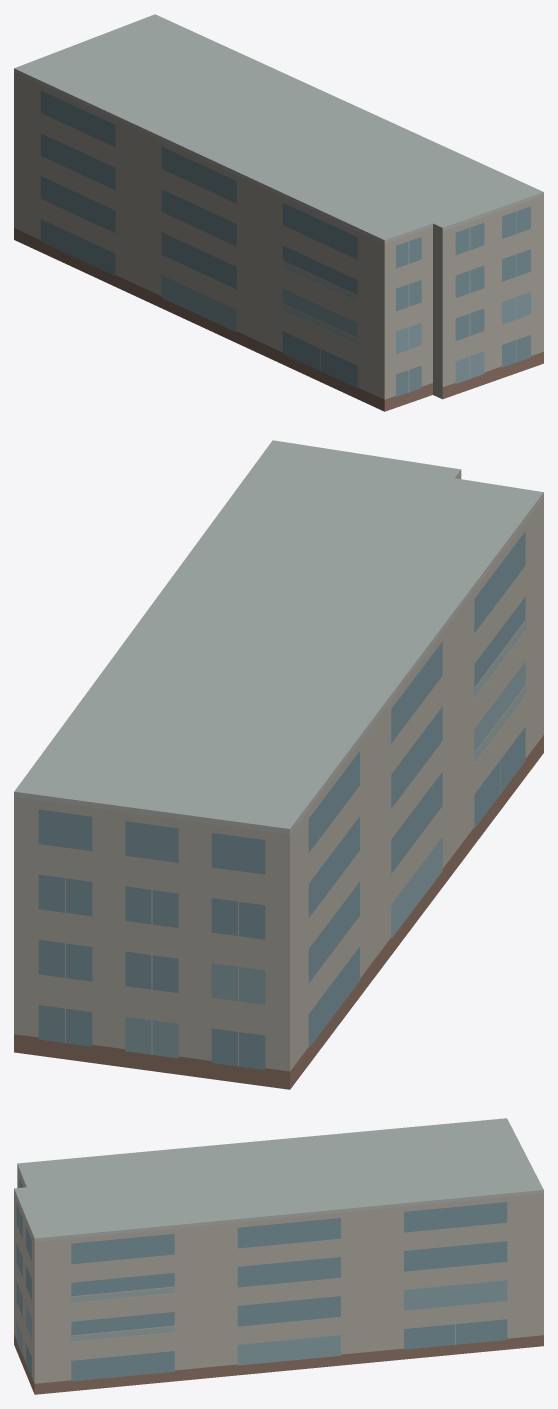
The model's file is survey-upis-33046446.glb.
The picture shows the model from 3 angles, top to bottom: view 1: azimuth 30°, elevation 25°; view 2: azimuth 150°, elevation 25°; view 3: azimuth 270°, elevation 25°; orthographic projection. The views are drawn at different scales.
Parts seen in each view (by area): view 1: survey-upis-33046446.tmp; view 2: survey-upis-33046446.tmp; view 3: survey-upis-33046446.tmp.
Part boxes in pixels (<box>): survey-upis-33046446.tmp: <box>14,14,543,411</box>; survey-upis-33046446.tmp: <box>14,440,543,1089</box>; survey-upis-33046446.tmp: <box>14,1118,543,1394</box>.
Size of the model in its own units: 19.33 by 11.7 by 35.97.
